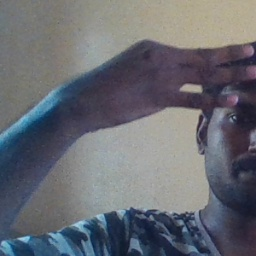K: (86, 40, 256, 117)
